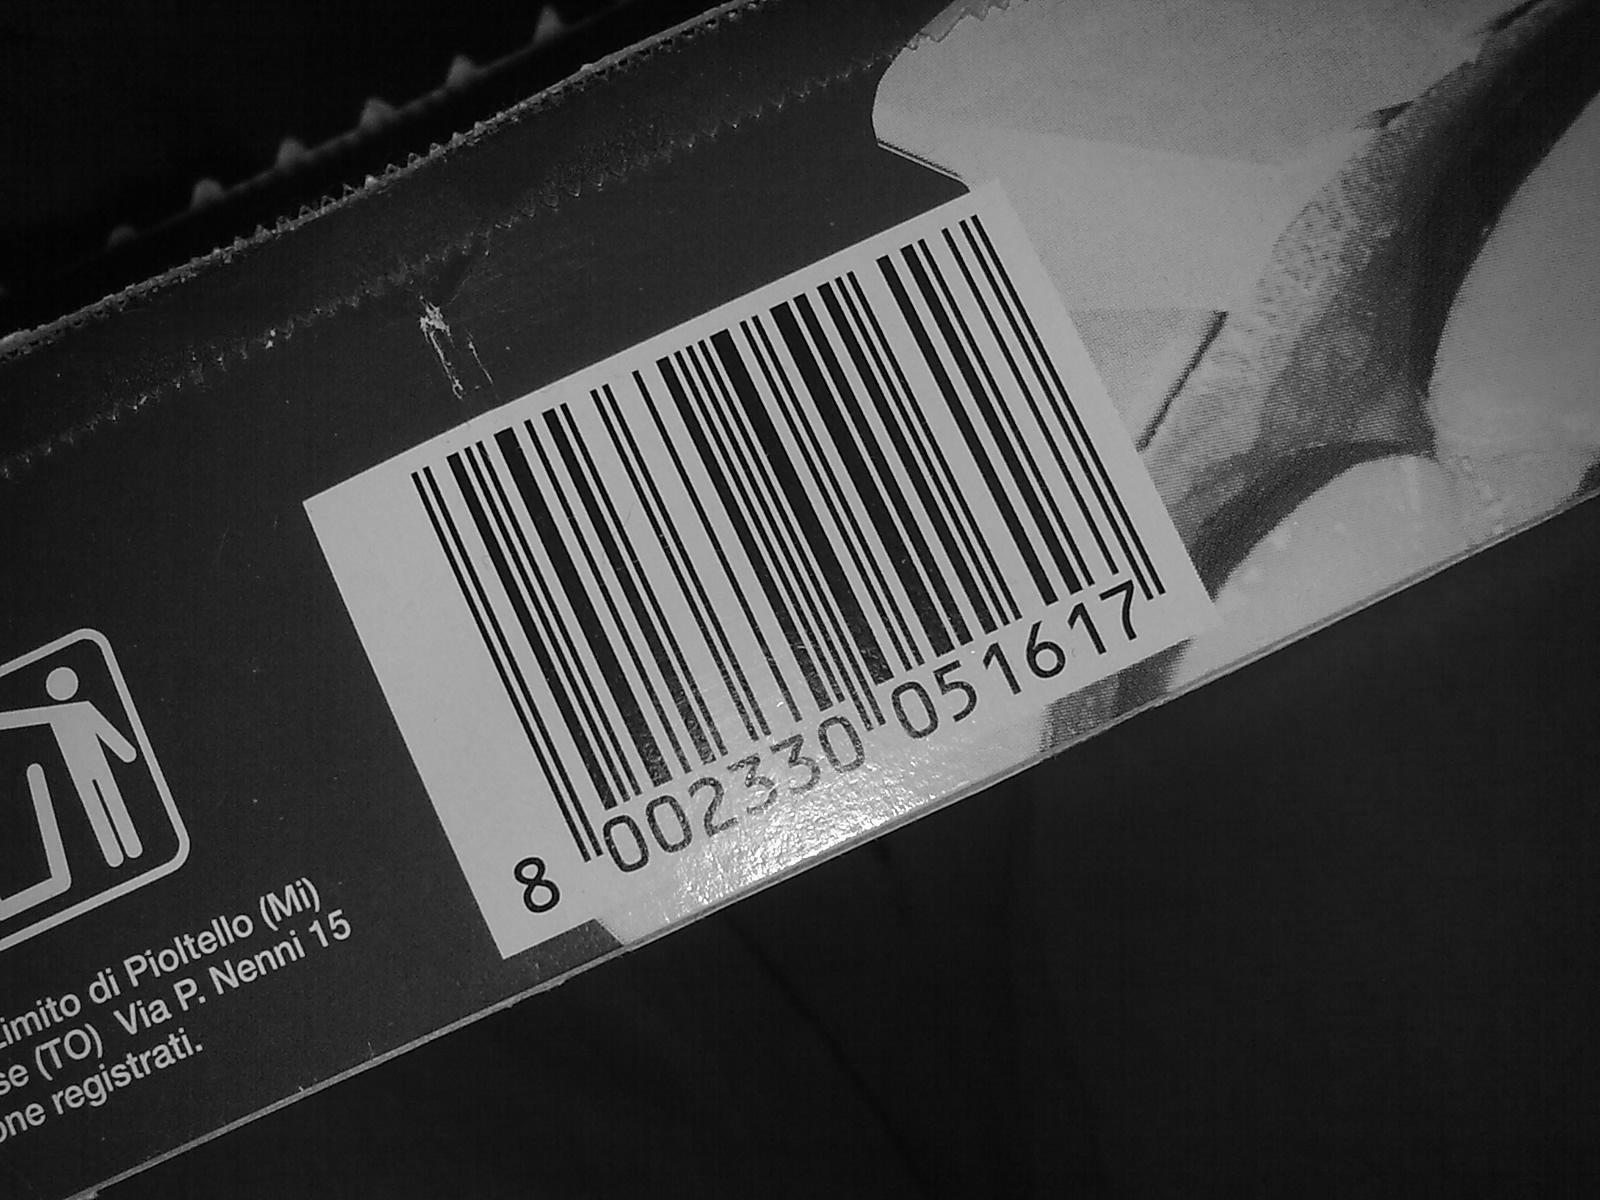Barcode: (447, 202, 1184, 885)
